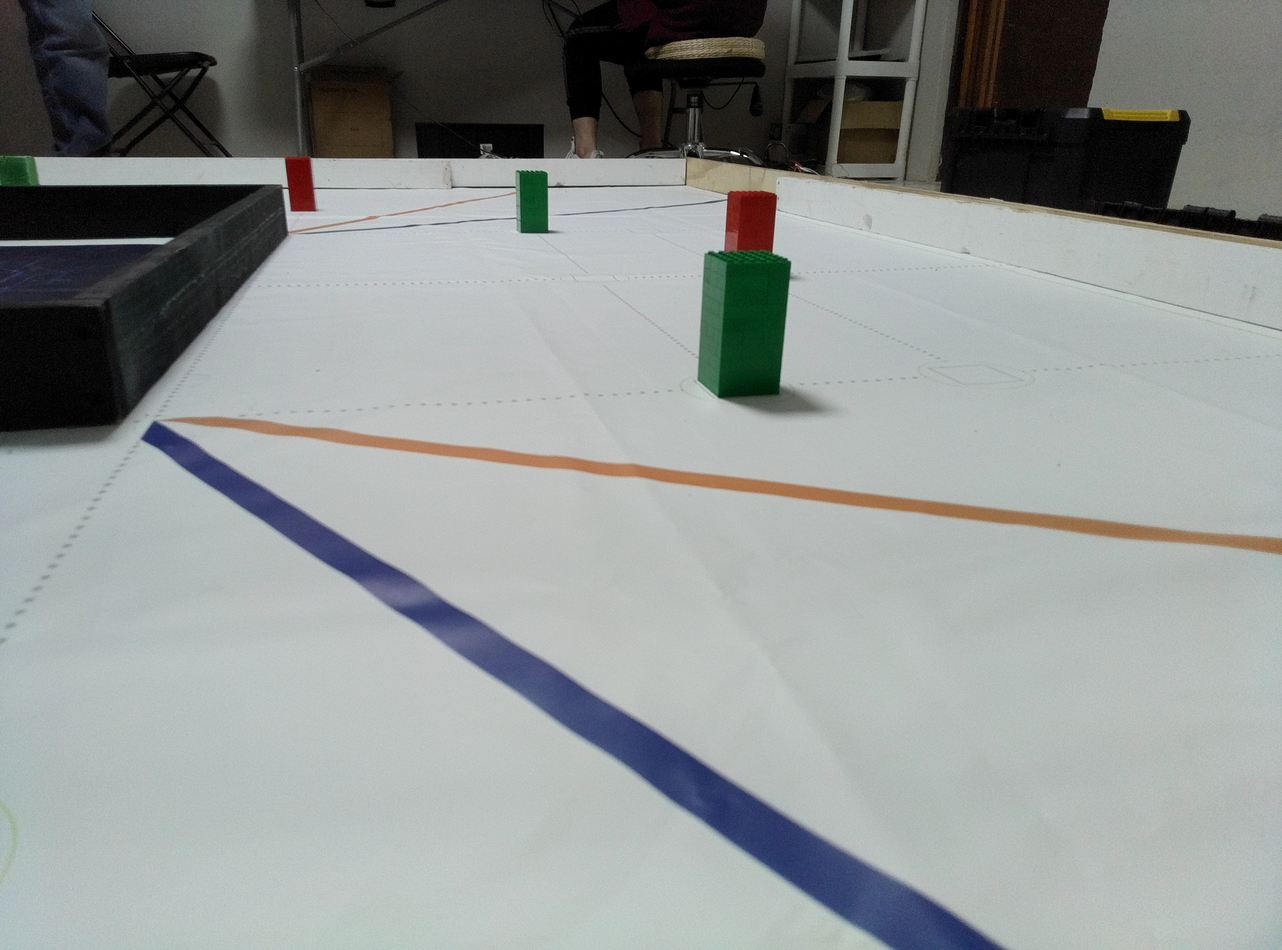greenbox: (706, 246, 786, 404), (518, 170, 546, 234), (0, 152, 39, 185)
redbox: (724, 190, 777, 243), (284, 152, 323, 214)
